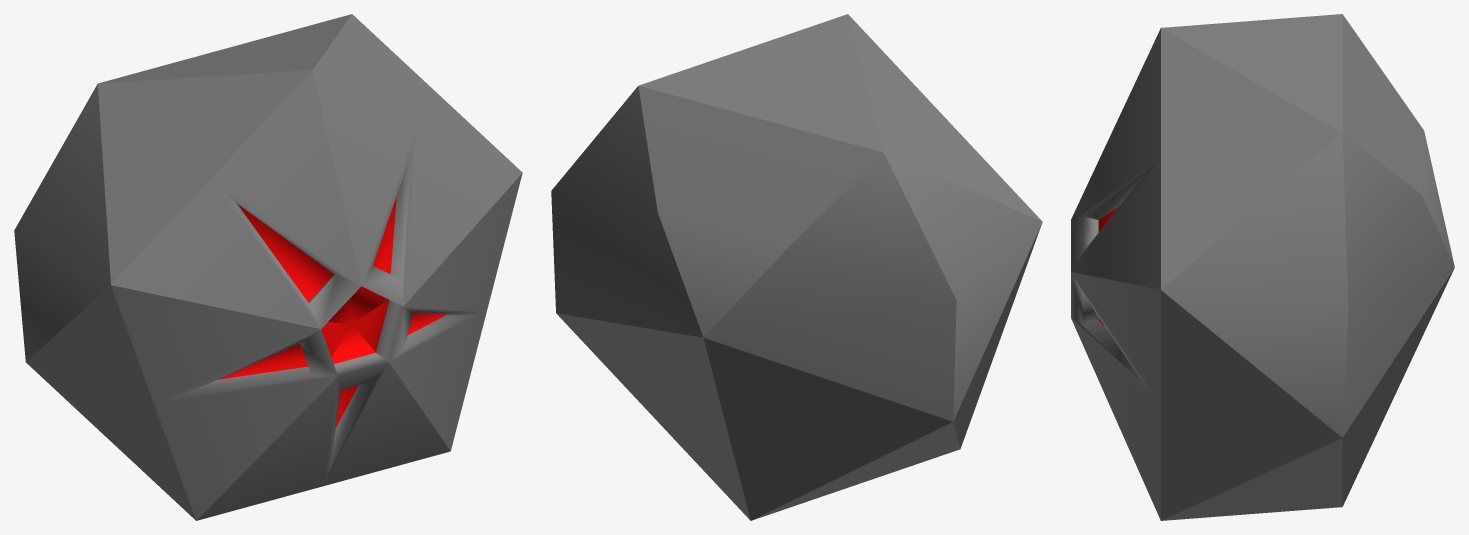
File: Golem_Body.fbx
3 renders of one model, left to right at view 1: azimuth 30°, elevation 25°; view 2: azimuth 150°, elevation 25°; view 3: azimuth 270°, elevation 25°, orthographic. The views are drawn at different scales.
Visible parts, largest first — view 1: Body; view 2: Body; view 3: Body.
Part boxes in pixels (left/top/right/bottom): Body: left=14, top=14, right=522, bottom=520; Body: left=551, top=14, right=1042, bottom=520; Body: left=1071, top=14, right=1454, bottom=520.
Bounding box in the file's own units: 138 × 145 × 106.
Materials: 1 (1 with a texture image).
